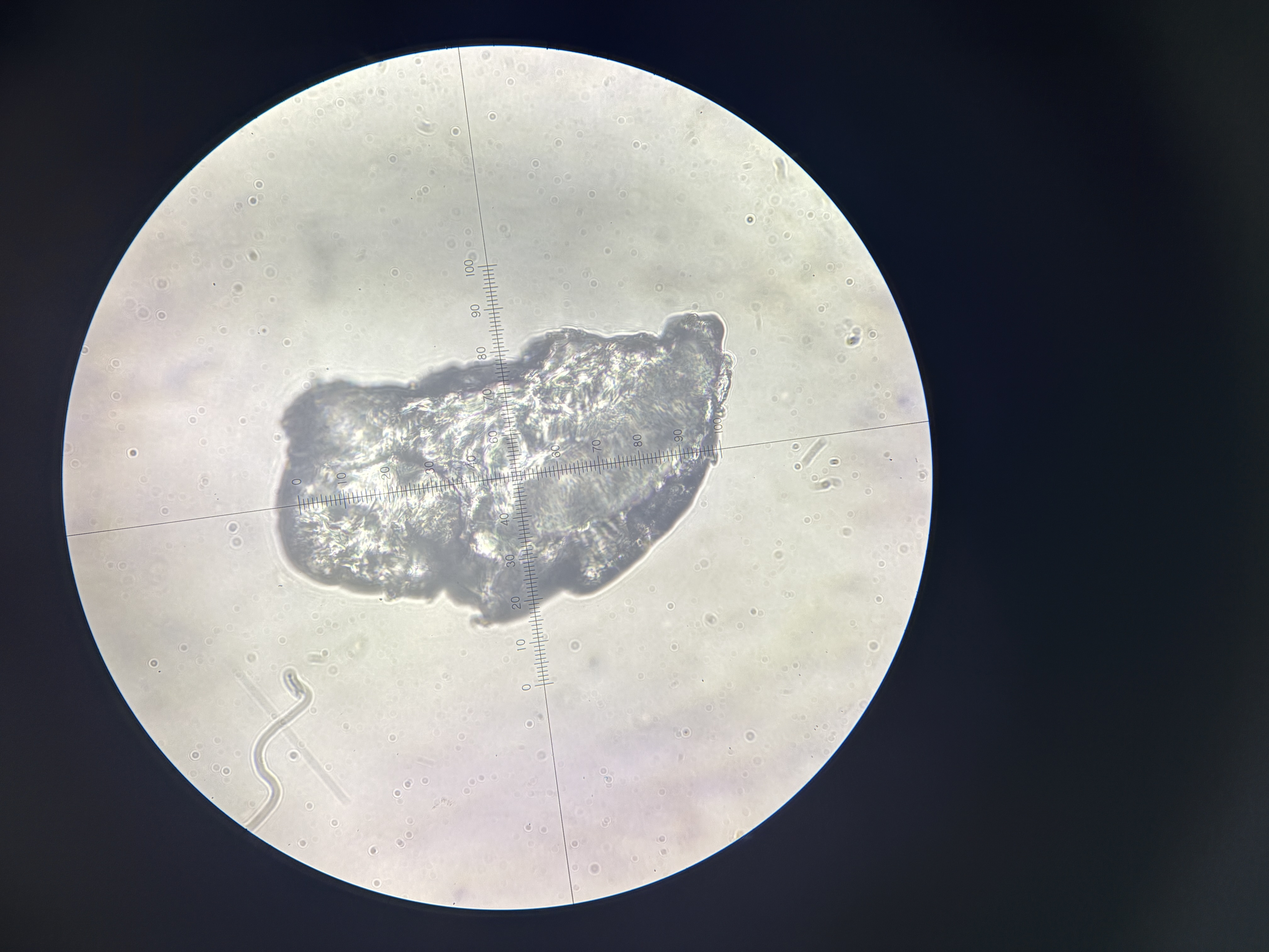microplastic: (269, 305, 742, 634)
